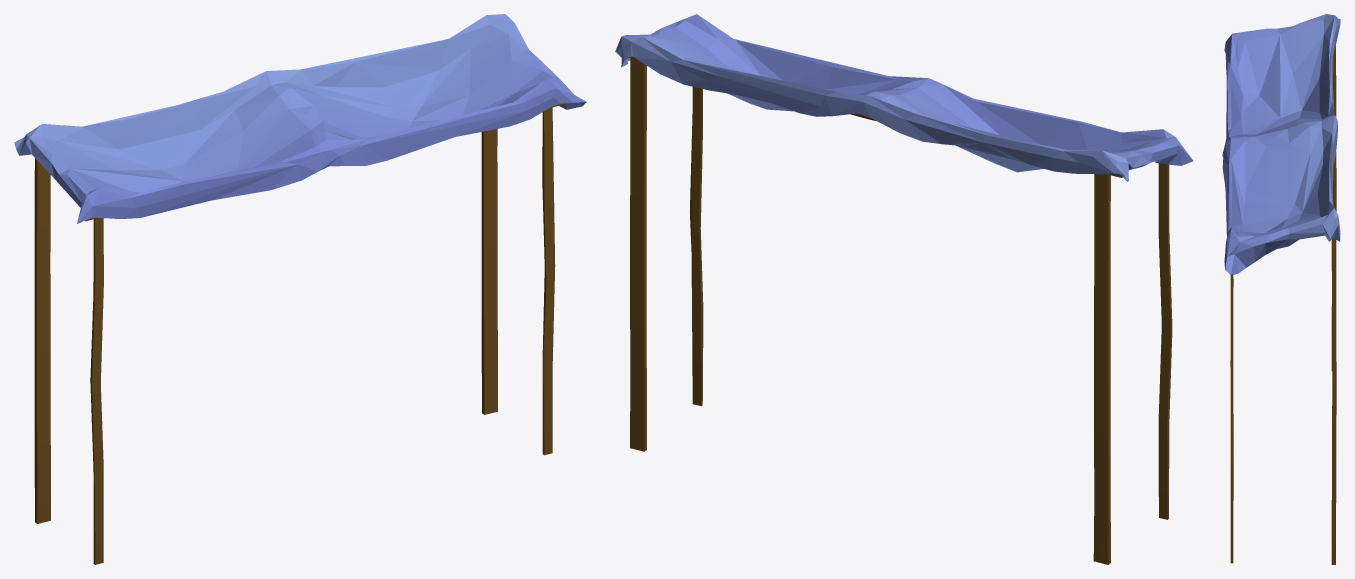
File: MarketRoofBlue.fbx
The picture shows the model from 3 angles, left to right: view 1: azimuth 30°, elevation 25°; view 2: azimuth 150°, elevation 25°; view 3: azimuth 270°, elevation 25°; orthographic projection. The views are drawn at different scales.
Visible parts, largest first — view 1: MarketRoofBlue; view 2: MarketRoofBlue; view 3: MarketRoofBlue.
Boxes of the visible parts, bbox=[...] form: MarketRoofBlue: bbox=[14, 14, 586, 564]; MarketRoofBlue: bbox=[615, 14, 1193, 564]; MarketRoofBlue: bbox=[1222, 14, 1340, 564].
Size of the model in its own units: 272 by 203 by 61.62.
